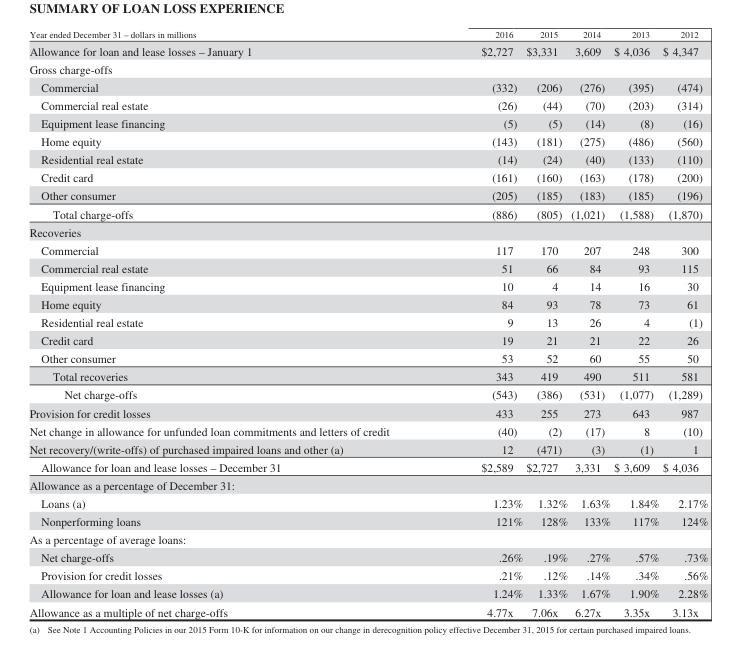table: (28, 28, 707, 618)
table column: (28, 28, 434, 618), (434, 28, 523, 618), (611, 28, 660, 618), (660, 28, 707, 618), (523, 28, 568, 618), (568, 28, 611, 618)
table column header: (28, 28, 707, 41)
table projected row header: (28, 59, 707, 77), (28, 222, 707, 240), (28, 475, 707, 493), (28, 530, 707, 548)
table row: (28, 77, 707, 96), (28, 276, 707, 295), (28, 493, 707, 512), (28, 41, 707, 59), (28, 59, 707, 77), (28, 96, 707, 114), (28, 114, 707, 132), (28, 132, 707, 150), (28, 150, 707, 168), (28, 168, 707, 186), (28, 186, 707, 204), (28, 204, 707, 222), (28, 222, 707, 240), (28, 240, 707, 258), (28, 258, 707, 276), (28, 295, 707, 313), (28, 313, 707, 331), (28, 331, 707, 349), (28, 349, 707, 367), (28, 367, 707, 385), (28, 385, 707, 403), (28, 403, 707, 421), (28, 421, 707, 439), (28, 439, 707, 457), (28, 457, 707, 475), (28, 475, 707, 493), (28, 512, 707, 530), (28, 530, 707, 548), (28, 548, 707, 566), (28, 566, 707, 584), (28, 584, 707, 602), (28, 602, 707, 618), (28, 28, 707, 41)
